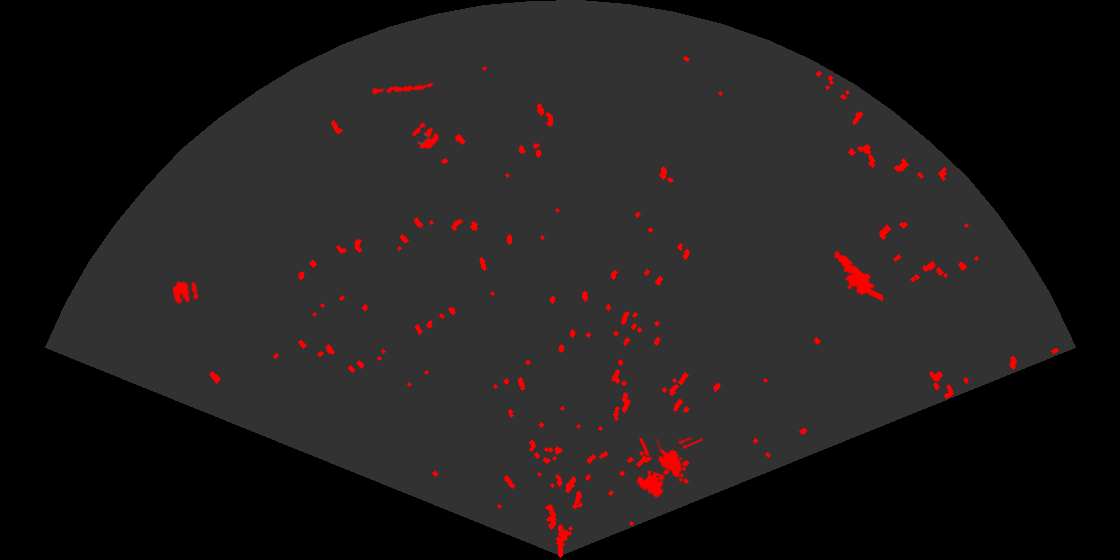ball: (410, 121, 441, 151), (171, 279, 200, 306)
cage: (634, 438, 703, 499)
chain: (371, 81, 435, 97)
frogman: (832, 249, 883, 303)
